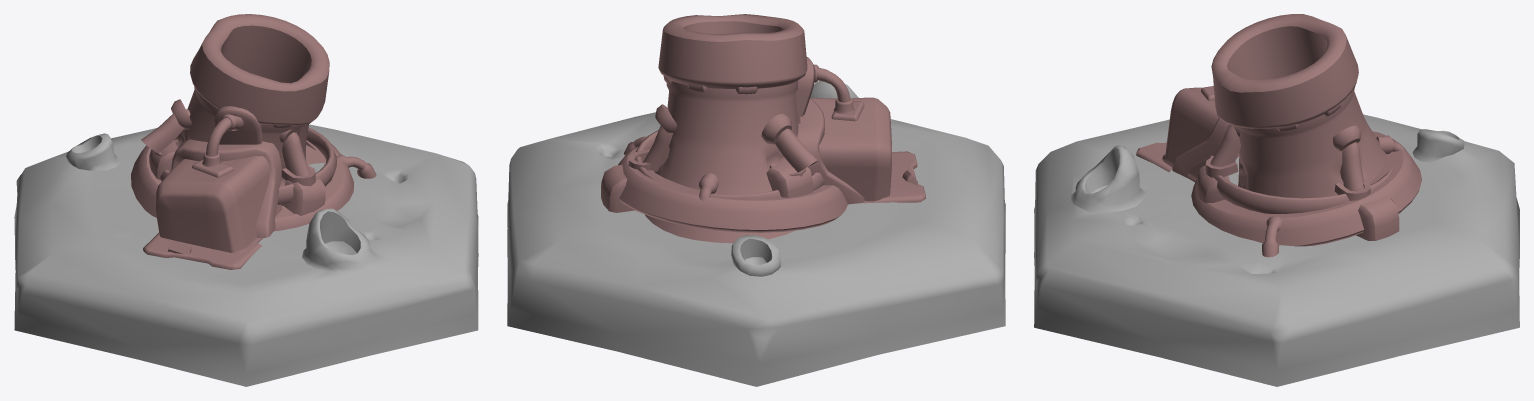
File: GS_lvl1_dstr.fbx
The picture shows the model from 3 angles, left to right: view 1: azimuth 30°, elevation 25°; view 2: azimuth 150°, elevation 25°; view 3: azimuth 270°, elevation 25°; orthographic projection. The views are drawn at different scales.
Visible parts, largest first — view 1: gas_constructed_lvl1_d; view 2: gas_constructed_lvl1_d; view 3: gas_constructed_lvl1_d.
Part boxes in pixels (left/top/right/bottom): gas_constructed_lvl1_d: left=14, top=14, right=478, bottom=386; gas_constructed_lvl1_d: left=507, top=14, right=1005, bottom=386; gas_constructed_lvl1_d: left=1034, top=14, right=1519, bottom=386.
Bounding box in the file's own units: 7.51 × 3.61 × 6.51.
